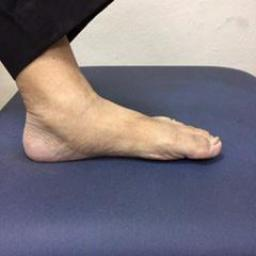Medial View -Left Foot-: (6, 74, 230, 188)
